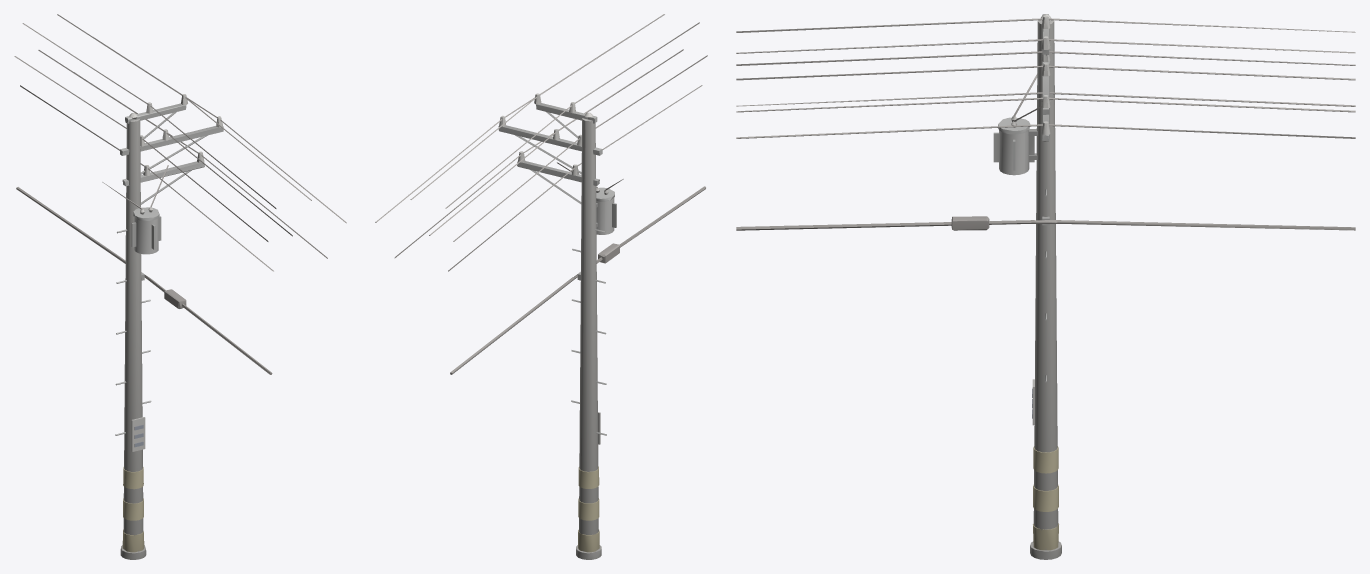
File: pole.lod1.glb
3 renders of one model, left to right at view 1: azimuth 30°, elevation 25°; view 2: azimuth 150°, elevation 25°; view 3: azimuth 270°, elevation 25°, orthographic. The views are drawn at different scales.
Bounding box in the file's own units: 2.28 × 7.96 × 8.18.
